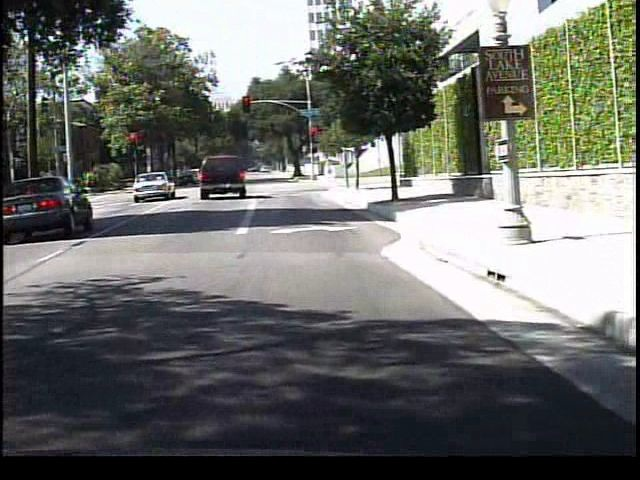person: (319, 157, 336, 185)
